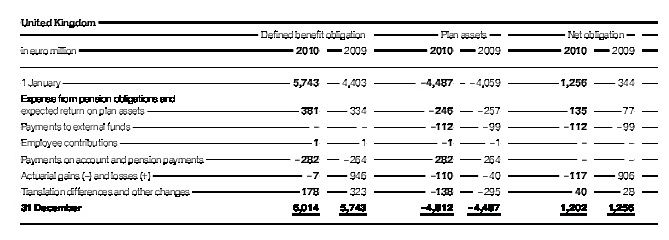table: (0, 0, 669, 240)
